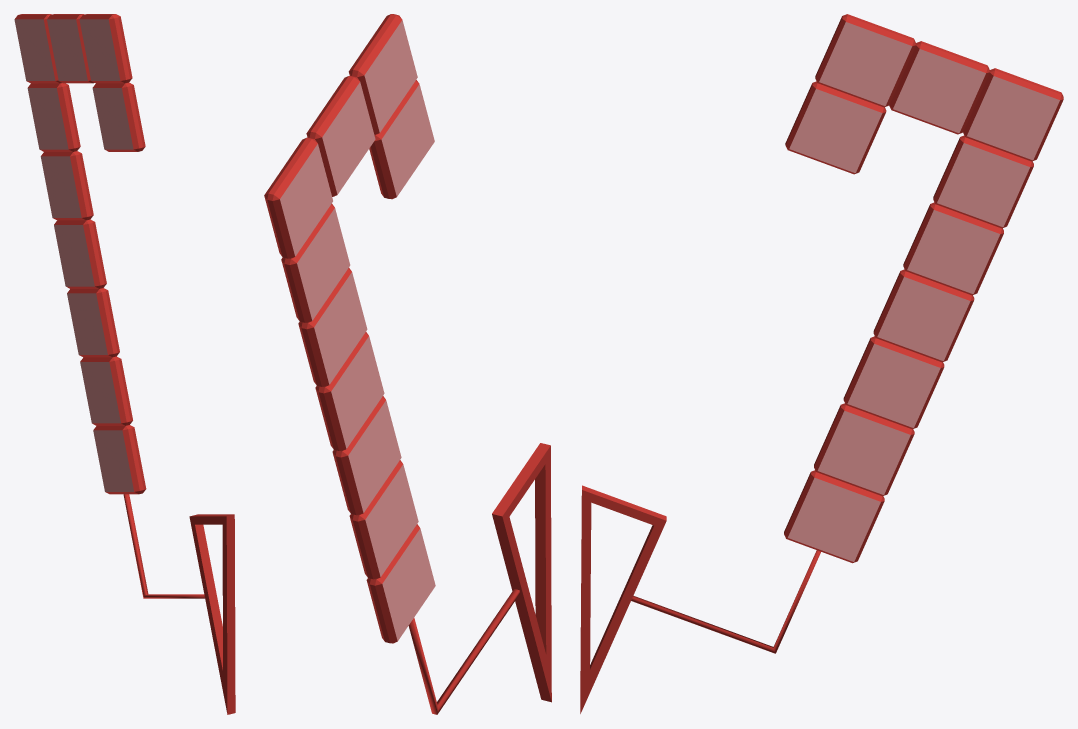
The model's file is heart3D-2.glb.
3 views of the same model, side by side, from view 1: azimuth 30°, elevation 25°; view 2: azimuth 150°, elevation 25°; view 3: azimuth 270°, elevation 25° (orthographic). The views are drawn at different scales.
Visible parts, largest first — view 1: Cube.032; view 2: Cube.032; view 3: Cube.032.
Part boxes in pixels (<box>): Cube.032: <box>14,14,235,714</box>; Cube.032: <box>264,14,551,714</box>; Cube.032: <box>580,14,1063,713</box>.
Size of the model in its own units: 0.02 by 0.9662 by 0.607.
